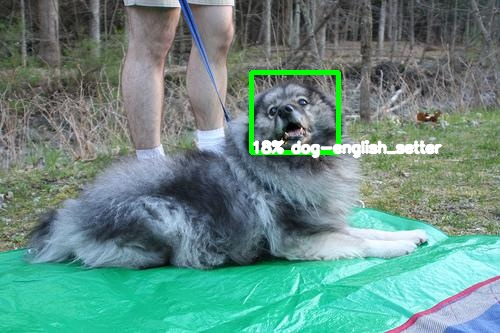dog-keeshond: (244, 80, 343, 152)
